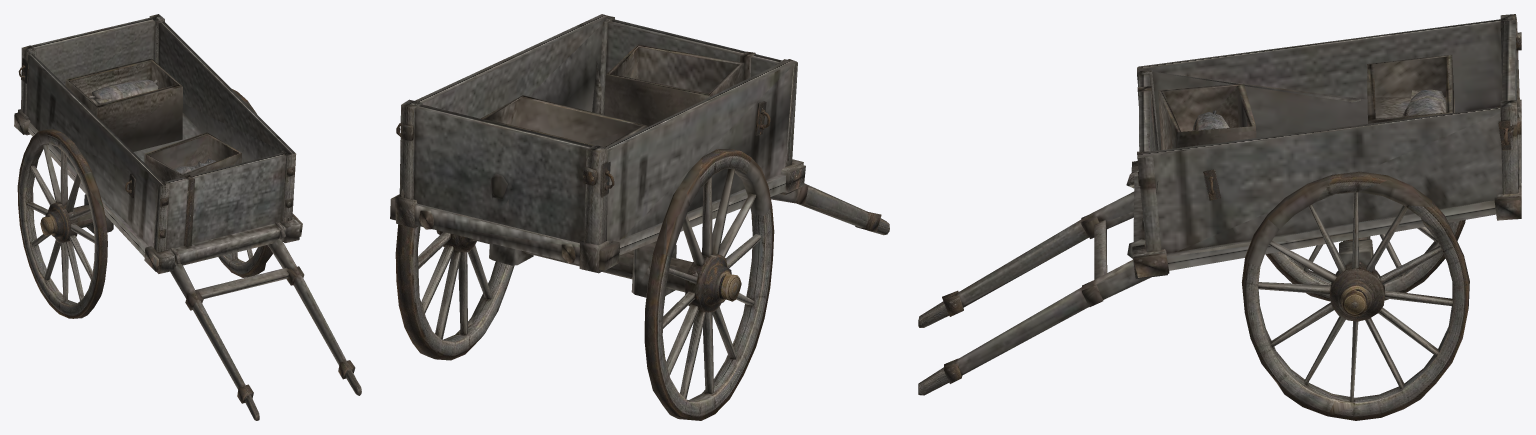
The model's file is cart_wooden.glb.
3 renders of one model, left to right at view 1: azimuth 30°, elevation 25°; view 2: azimuth 150°, elevation 25°; view 3: azimuth 270°, elevation 25°, orthographic. The views are drawn at different scales.
Bounding box in the file's own units: 1.2 × 1.2 × 2.18.
1 material, 1 textured.
